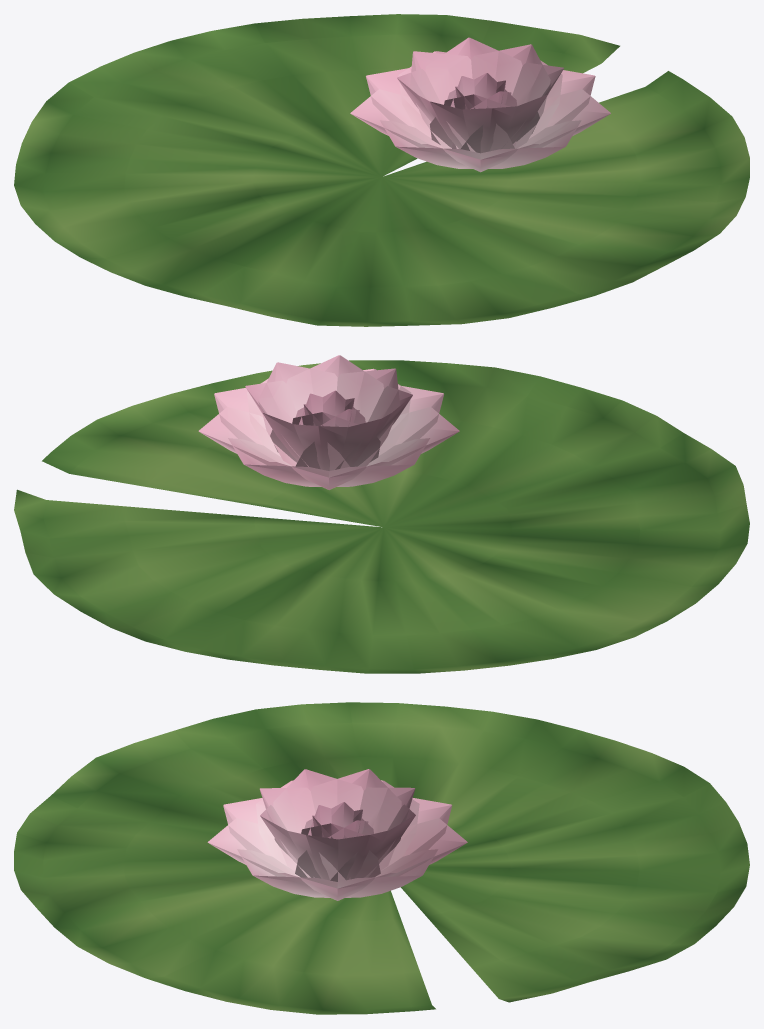
File: PLN_Water_LilyLotus.fbx
3 renders of one model, top to bottom at view 1: azimuth 30°, elevation 25°; view 2: azimuth 150°, elevation 25°; view 3: azimuth 270°, elevation 25°, orthographic.
Visible parts, largest first — view 1: PLN_Water_LilyLotus; view 2: PLN_Water_LilyLotus; view 3: PLN_Water_LilyLotus.
Part boxes in pixels (x1,y1,x2,y2): PLN_Water_LilyLotus: [14, 14, 749, 326]; PLN_Water_LilyLotus: [14, 355, 749, 673]; PLN_Water_LilyLotus: [14, 702, 749, 1014].
Bounding box in the file's own units: 1 × 0.1555 × 1.
